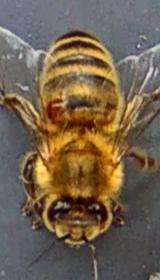varroa_mite: (43, 96, 77, 122)
